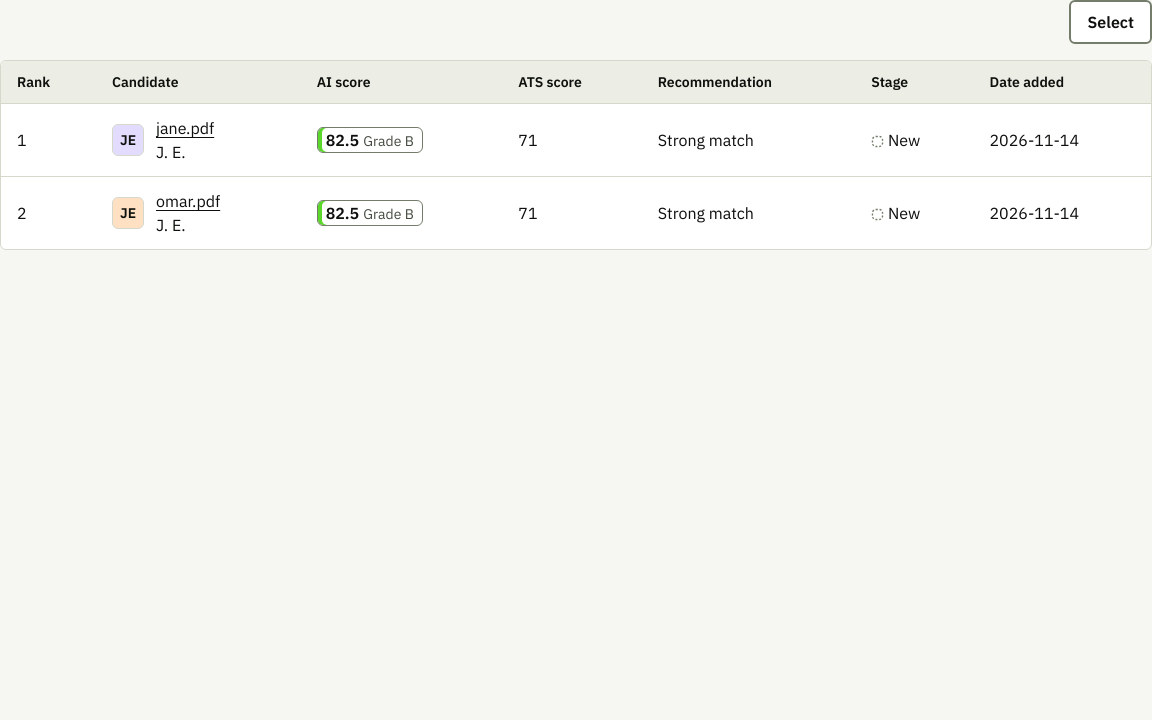
Scenario: changing the stage of several candidates › the selection is cleared and the list looked at again after the change
The image size is (1152, 720).
Check: the element named "Candidates" is shown, box [0, 60, 1151, 250]
Click the button "Select". click: point(1111, 22)
box: [1070, 0, 1151, 44]
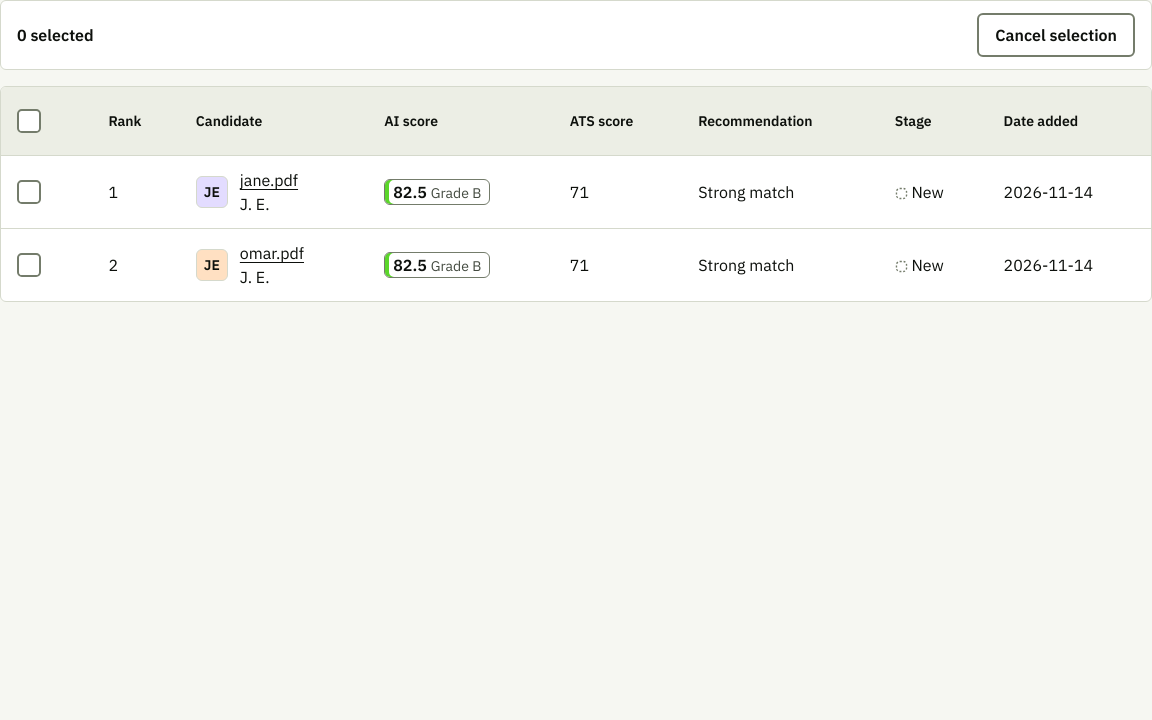
Click the checkbox named "Select jane.pdf" in the row of "jane.pdf". click: point(29, 192)
box: [17, 180, 41, 204]
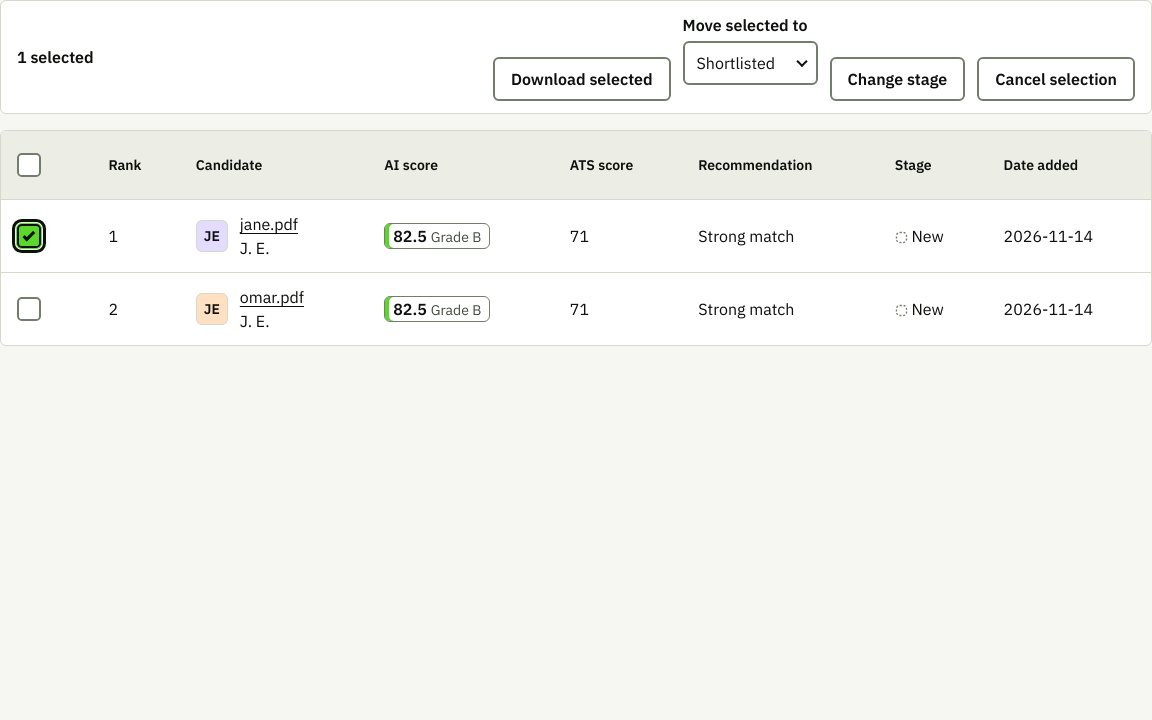
Click the button "Change stage". click: point(897, 79)
box: [830, 57, 965, 101]
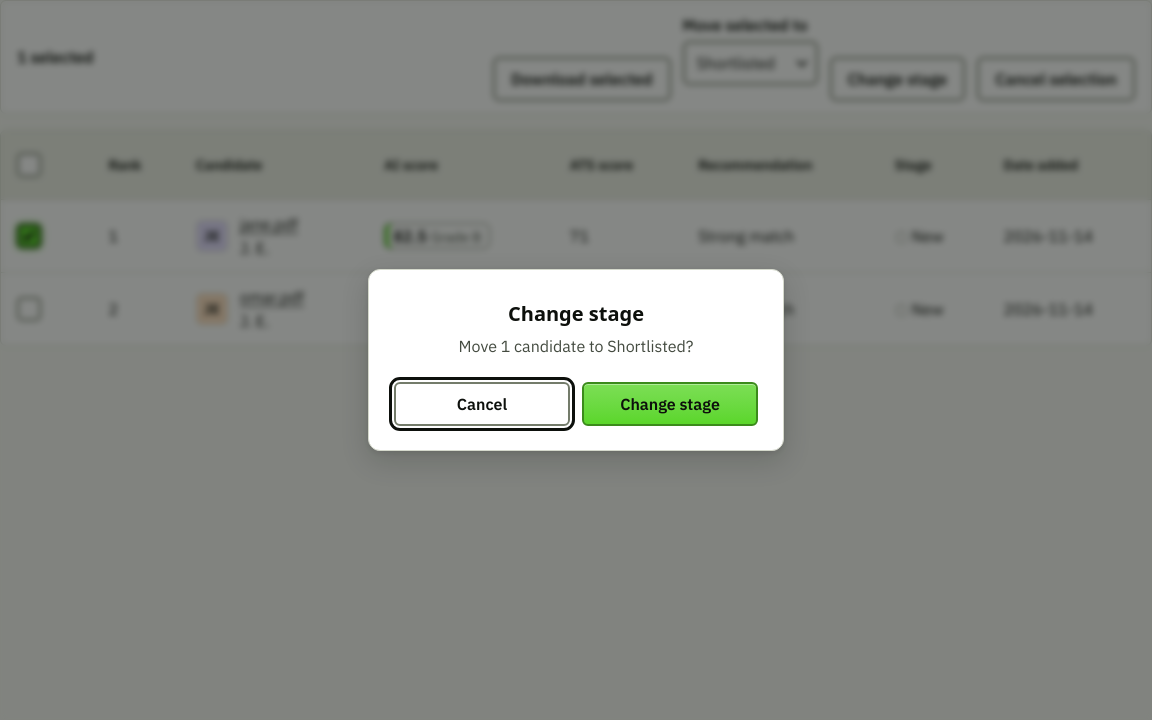
Click the button "Change stage". click: point(670, 404)
box: [582, 382, 758, 426]
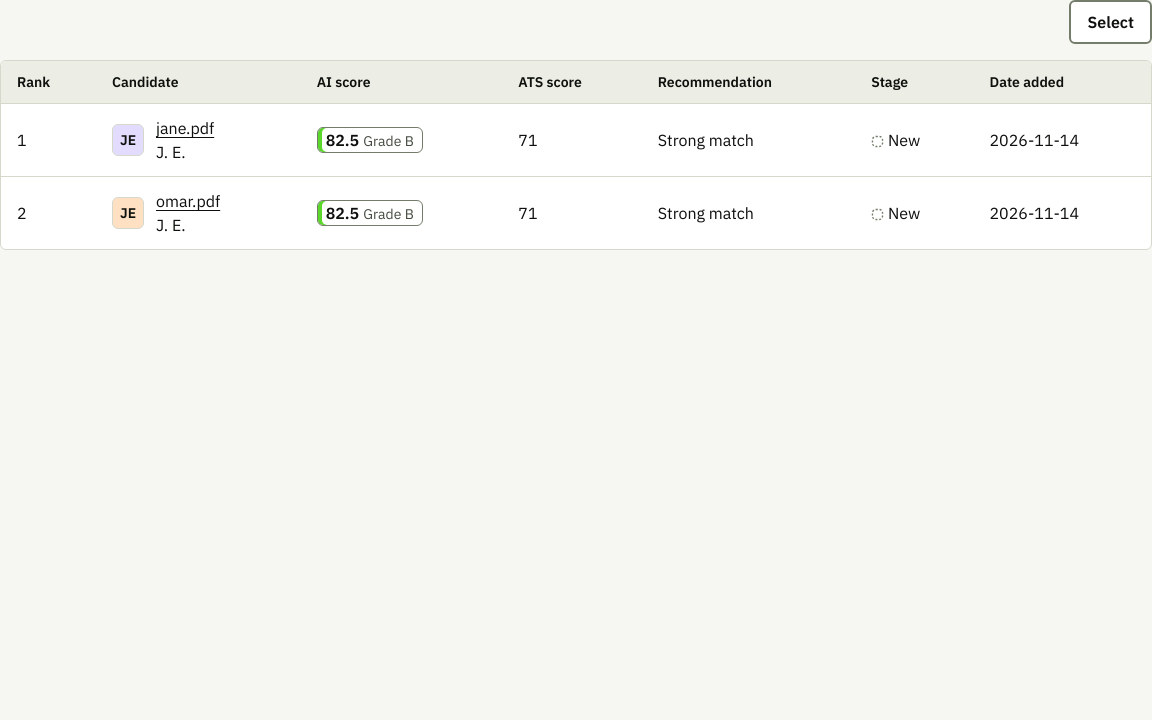
Check: the checkbox is gone
Click the button "Select". click: point(1111, 22)
box: [1070, 0, 1151, 44]
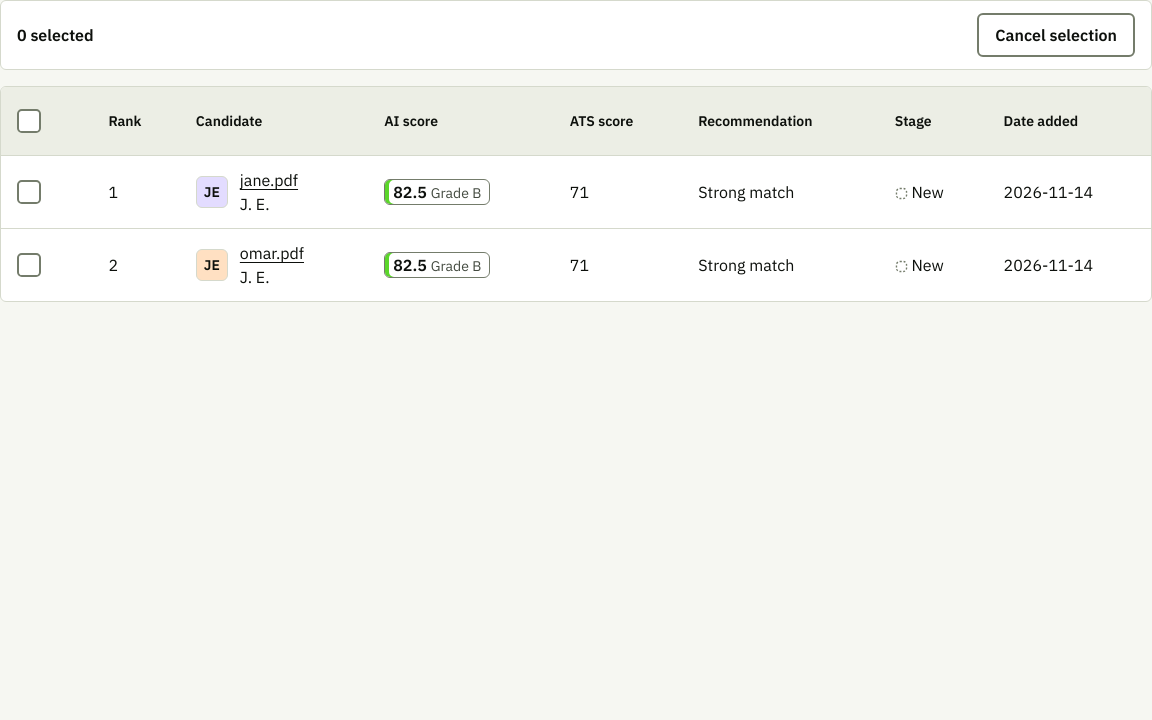
Check: the checkbox named "Select jane.pdf" in the row of "jane.pdf" is not checked, box [17, 180, 41, 204]
